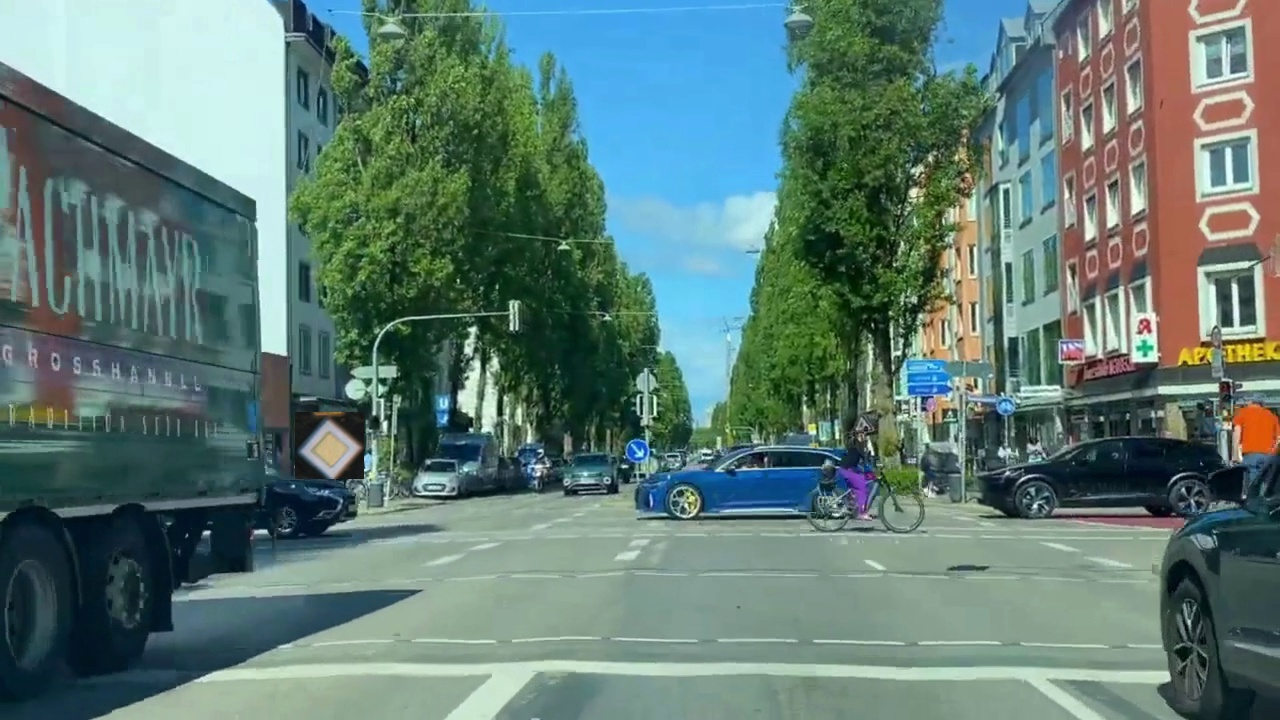Priority road: (295, 412, 364, 479)
